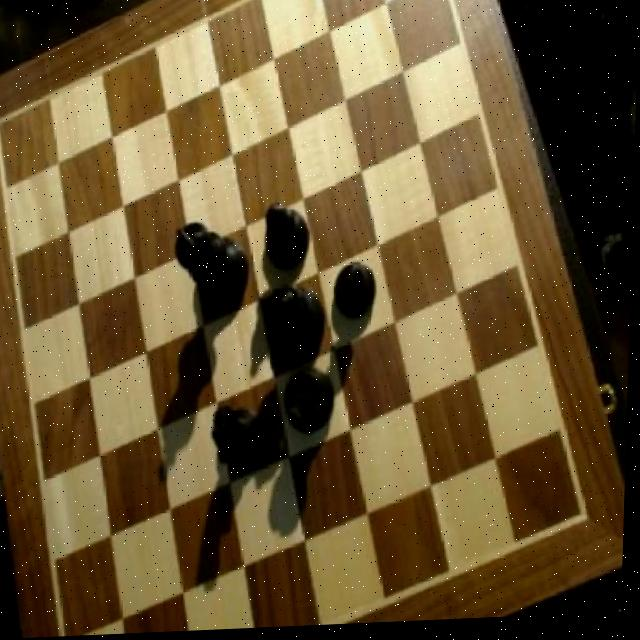bishop: (261, 201, 317, 271)
black-bishop: (169, 222, 256, 324)
black-king: (210, 404, 281, 485)
black-knight: (335, 262, 384, 325)
black-pawn: (264, 286, 332, 367)
black-queen: (283, 366, 346, 439)
